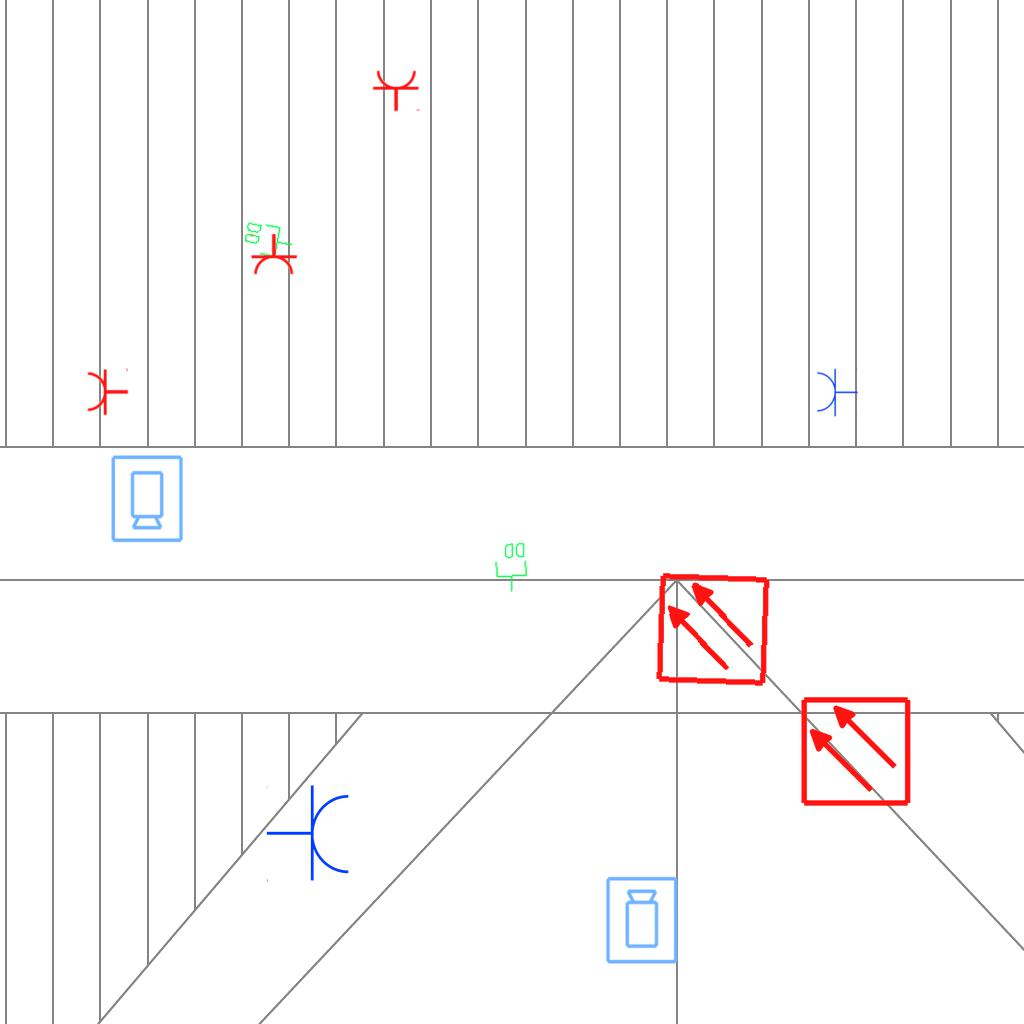Datenanschluss_zweifach: (240, 218, 297, 262), (494, 541, 529, 593)
KFO_Kamera_mit_Festobjektiv: (604, 875, 681, 966), (108, 453, 185, 544)
RMO_Rauchmelder_optischer: (654, 571, 771, 688), (799, 695, 912, 808)
Schukosteckdose_einfach: (266, 784, 353, 884), (372, 69, 422, 112), (86, 366, 129, 416), (815, 367, 858, 417), (248, 233, 298, 276)
